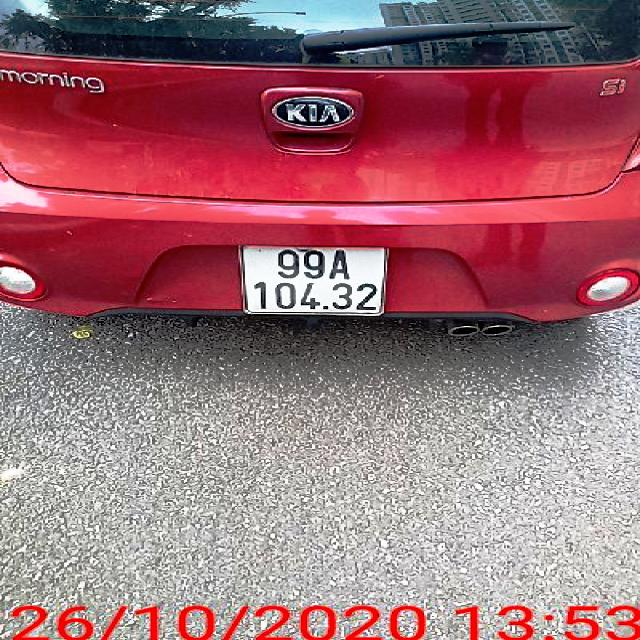license_plate: (244, 246, 389, 315)
